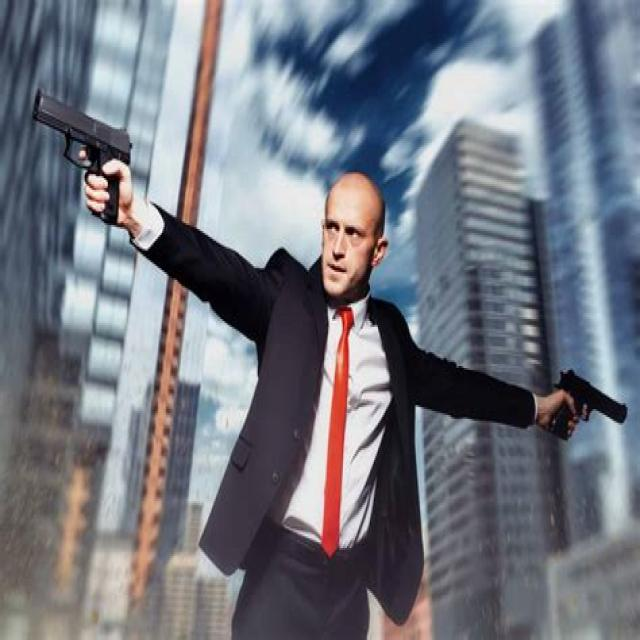weapons: (23, 69, 142, 243), (522, 348, 640, 459)
